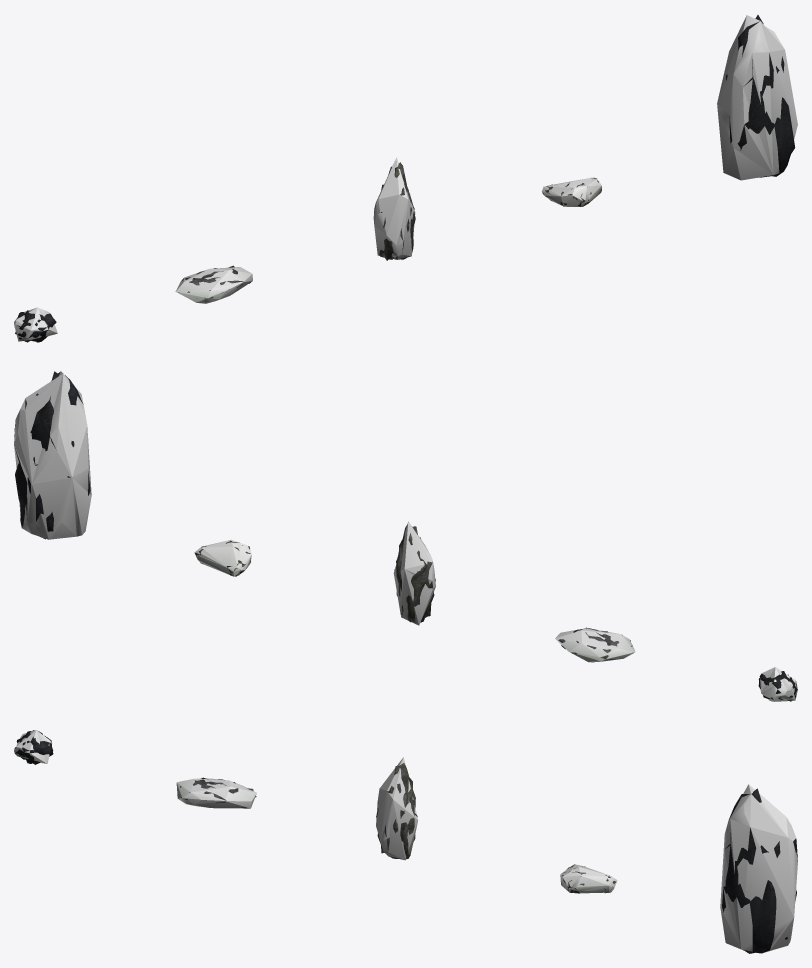
File: shore_rock_kit_v5.glb
The picture shows the model from 3 angles, top to bottom: view 1: azimuth 30°, elevation 25°; view 2: azimuth 150°, elevation 25°; view 3: azimuth 330°, elevation 25°; orthographic projection.
Visible parts, largest first — view 1: col_shore_rock_e_seastack, col_shore_rock_c_stack, shore_rock_e_seastack, col_shore_rock_b_slab, col_shore_rock_d_cluster, shore_rock_c_stack, col_shore_rock_a_boulder, shore_rock_a_boulder; view 2: col_shore_rock_e_seastack, col_shore_rock_c_stack, shore_rock_e_seastack, col_shore_rock_b_slab, col_shore_rock_d_cluster, shore_rock_c_stack, col_shore_rock_a_boulder; view 3: col_shore_rock_e_seastack, shore_rock_e_seastack, col_shore_rock_c_stack, col_shore_rock_b_slab, col_shore_rock_d_cluster, shore_rock_c_stack, shore_rock_a_boulder, col_shore_rock_a_boulder.
Boxes of the visible parts, <box> form: col_shore_rock_e_seastack: <box>717,15,797,180</box>; col_shore_rock_c_stack: <box>373,157,415,259</box>; shore_rock_e_seastack: <box>726,15,795,177</box>; col_shore_rock_b_slab: <box>175,267,252,303</box>; col_shore_rock_d_cluster: <box>542,177,601,206</box>; shore_rock_c_stack: <box>374,162,415,260</box>; col_shore_rock_a_boulder: <box>14,307,57,341</box>; shore_rock_a_boulder: <box>15,310,56,342</box>; col_shore_rock_e_seastack: <box>14,371,91,539</box>; col_shore_rock_c_stack: <box>393,521,435,625</box>; shore_rock_e_seastack: <box>14,371,90,539</box>; col_shore_rock_b_slab: <box>555,628,634,662</box>; col_shore_rock_d_cluster: <box>194,539,251,576</box>; shore_rock_c_stack: <box>394,525,435,622</box>; col_shore_rock_a_boulder: <box>759,667,797,701</box>; col_shore_rock_e_seastack: <box>720,784,797,952</box>; shore_rock_e_seastack: <box>722,788,797,953</box>; col_shore_rock_c_stack: <box>376,757,418,860</box>; col_shore_rock_b_slab: <box>176,778,256,808</box>; col_shore_rock_d_cluster: <box>560,864,617,893</box>; shore_rock_c_stack: <box>376,763,417,858</box>; shore_rock_a_boulder: <box>14,730,53,764</box>; col_shore_rock_a_boulder: <box>14,730,51,763</box>.
Size of the model in its own units: 38.78 by 7.51 by 3.14.
Materials: 1 (1 with a texture image).
